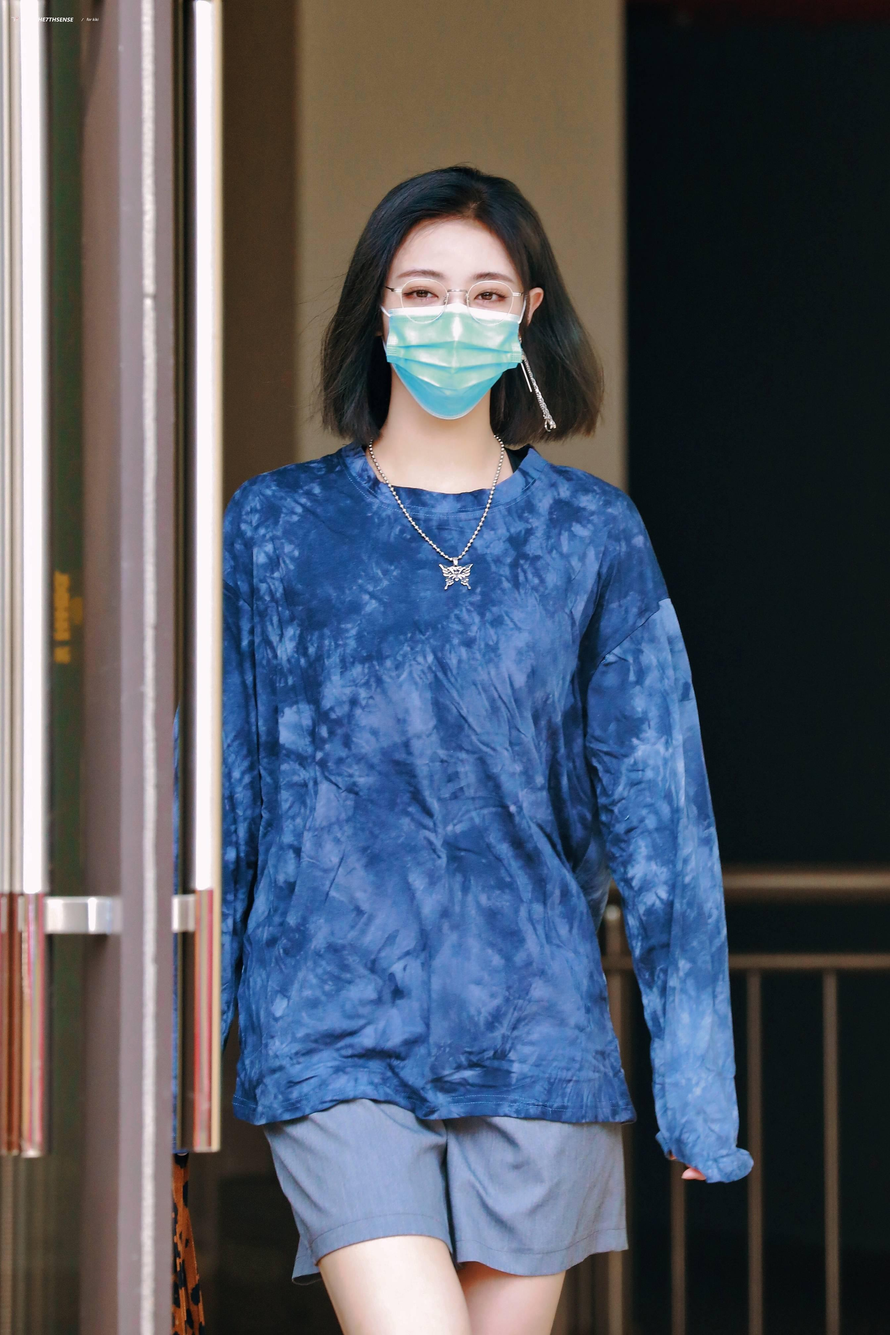OK: (386, 243, 524, 420)
